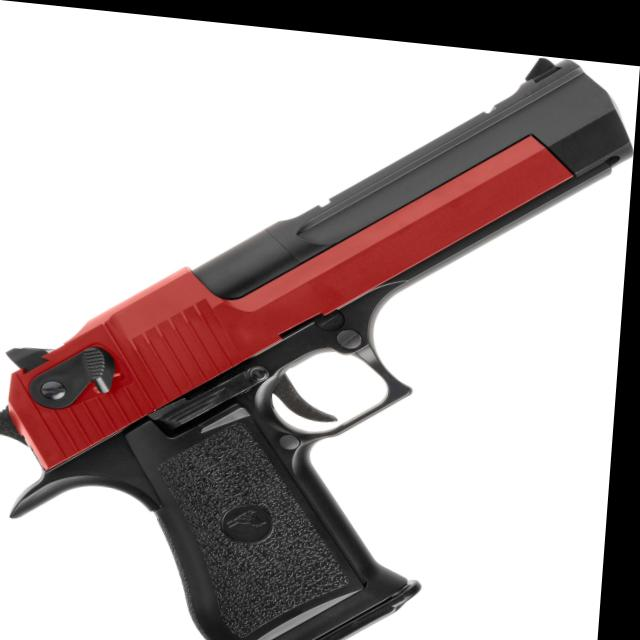handgun: (0, 1, 631, 640)
